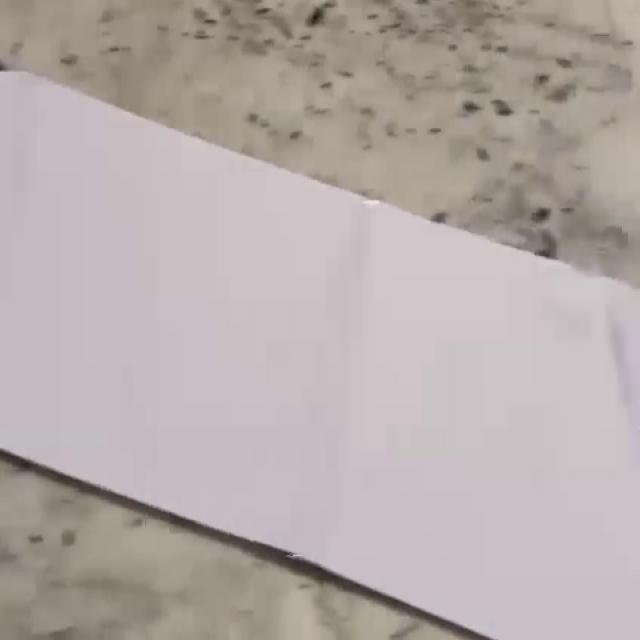road: (0, 72, 640, 637)
